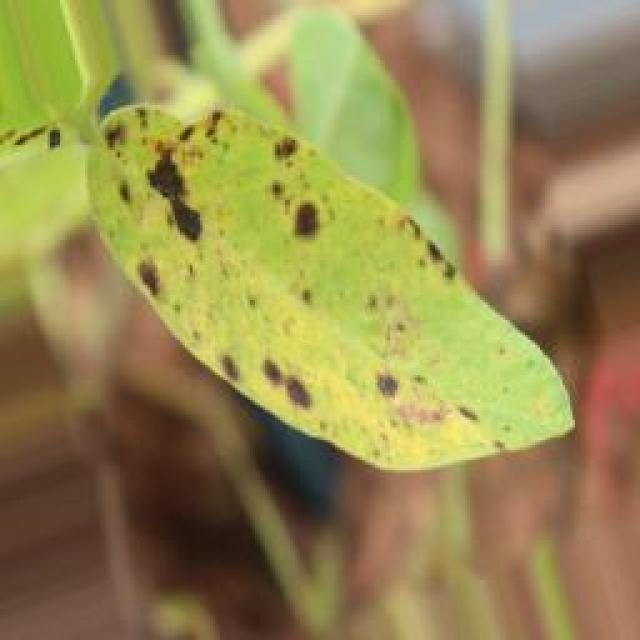Yellowish: (16, 69, 544, 479)
